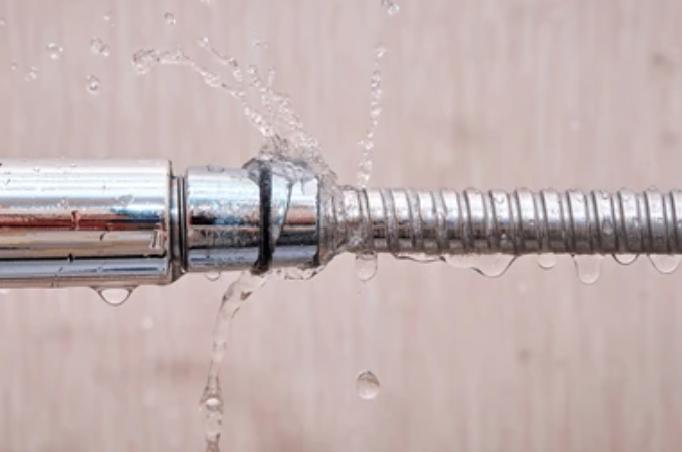water drop: (93, 282, 136, 306), (572, 252, 601, 284), (648, 251, 682, 274), (355, 372, 381, 400), (355, 253, 378, 279), (611, 249, 639, 264), (537, 250, 557, 269), (380, 0, 402, 15), (89, 38, 108, 55), (85, 75, 103, 92), (47, 43, 62, 58), (204, 272, 221, 281)
